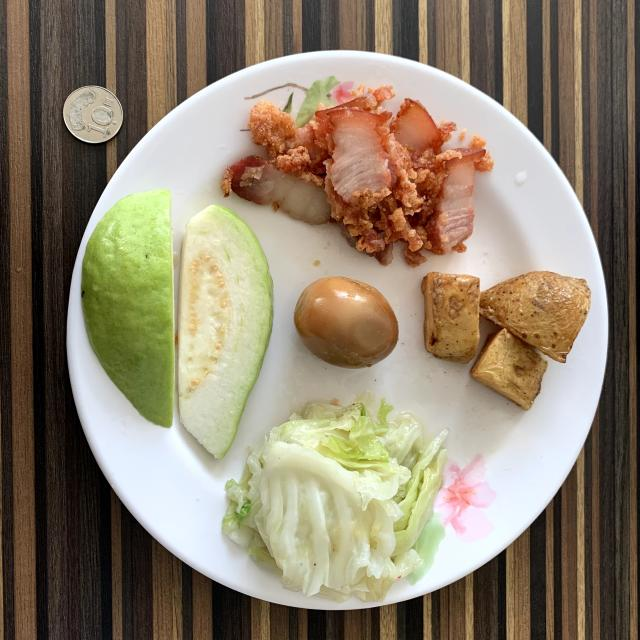cabbage: (222, 400, 448, 601)
coin: (62, 86, 122, 142)
fried potato: (421, 271, 591, 410)
guava -sliced-: (178, 205, 272, 459), (81, 190, 175, 428)
red grilled pork: (222, 86, 494, 266)
soy egg: (294, 276, 399, 369)
